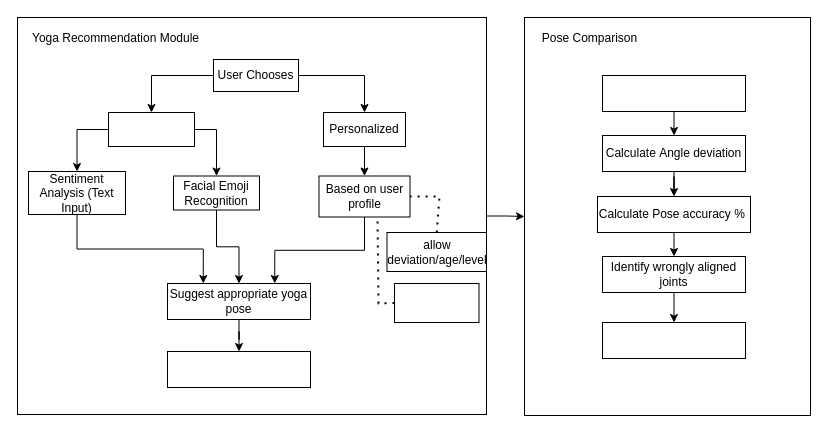
The diagram is 828 pixels wide and 433 high, and some of its shapes have lost their labels. The shapes that lost their labels are listed below. From the top down, each one's box as (x1, y1, x2, y2) in pixels, then its label:
(602, 74, 746, 112): Compare User Joint Angles with Ideal Pose
(108, 112, 194, 146): Mood-Based
(394, 282, 479, 322): questionnaire
(602, 322, 746, 358): Send results to Feedback Module
(166, 350, 310, 388): Pass to Pose Comparison
